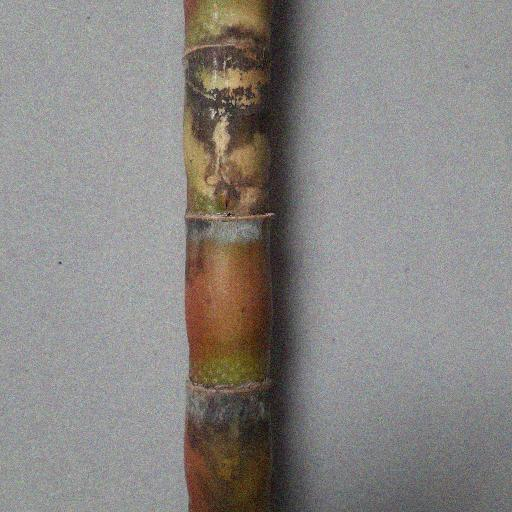Bud: (214, 183, 238, 215)
